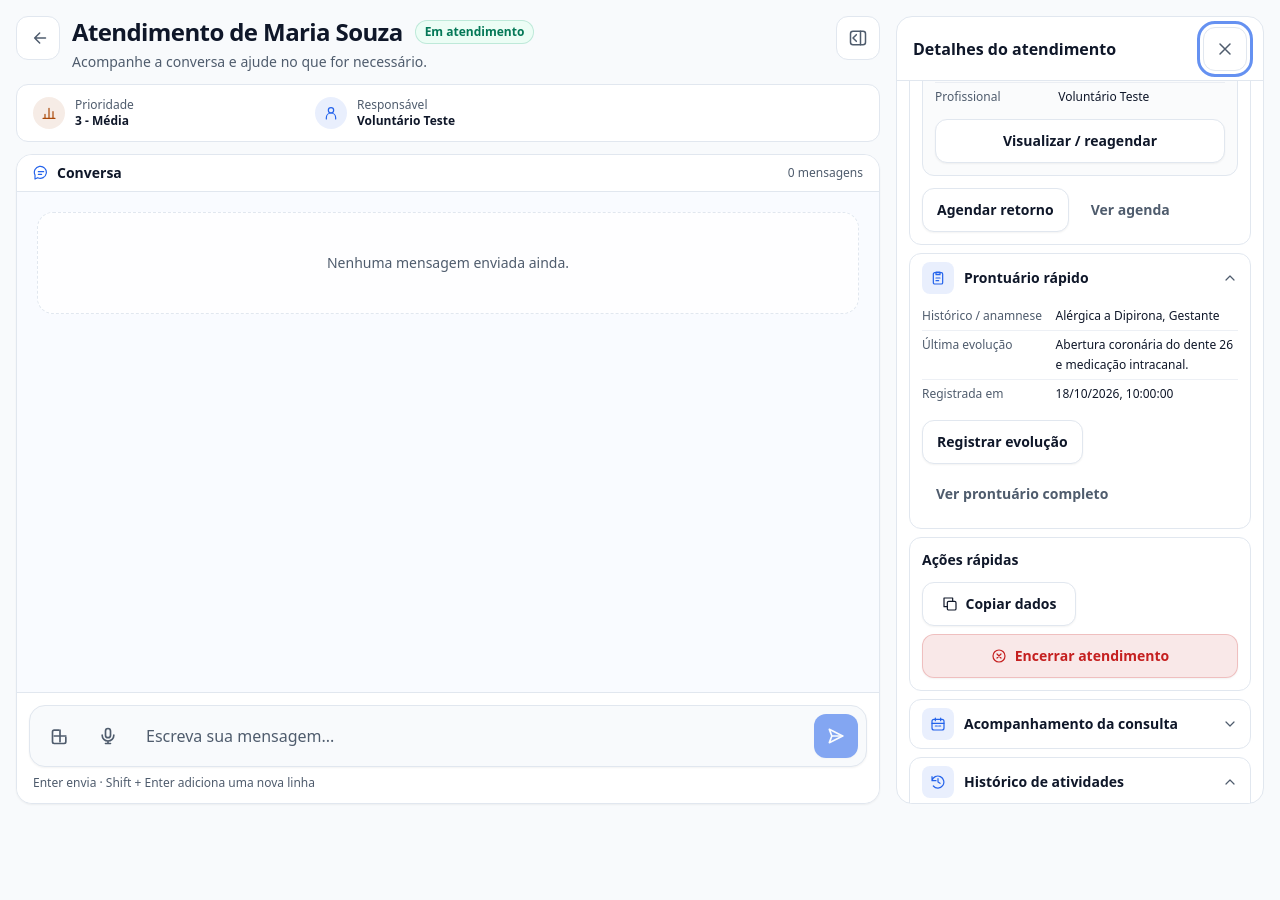
Test: DetalheAtendimento - Deduplicação de Mensagens › exibe situação atual do prontuário do paciente no atendimento e registra nova evolução
(page scrolled)
Expected: the heading "Prontuário rápido" is shown, [964, 268, 1089, 287]
Expected: the text "Alérgica a Dipirona, Gestante" is shown, [1056, 306, 1238, 326]
Click the button "Registrar evolução" at [1002, 442], box [922, 420, 1083, 464]
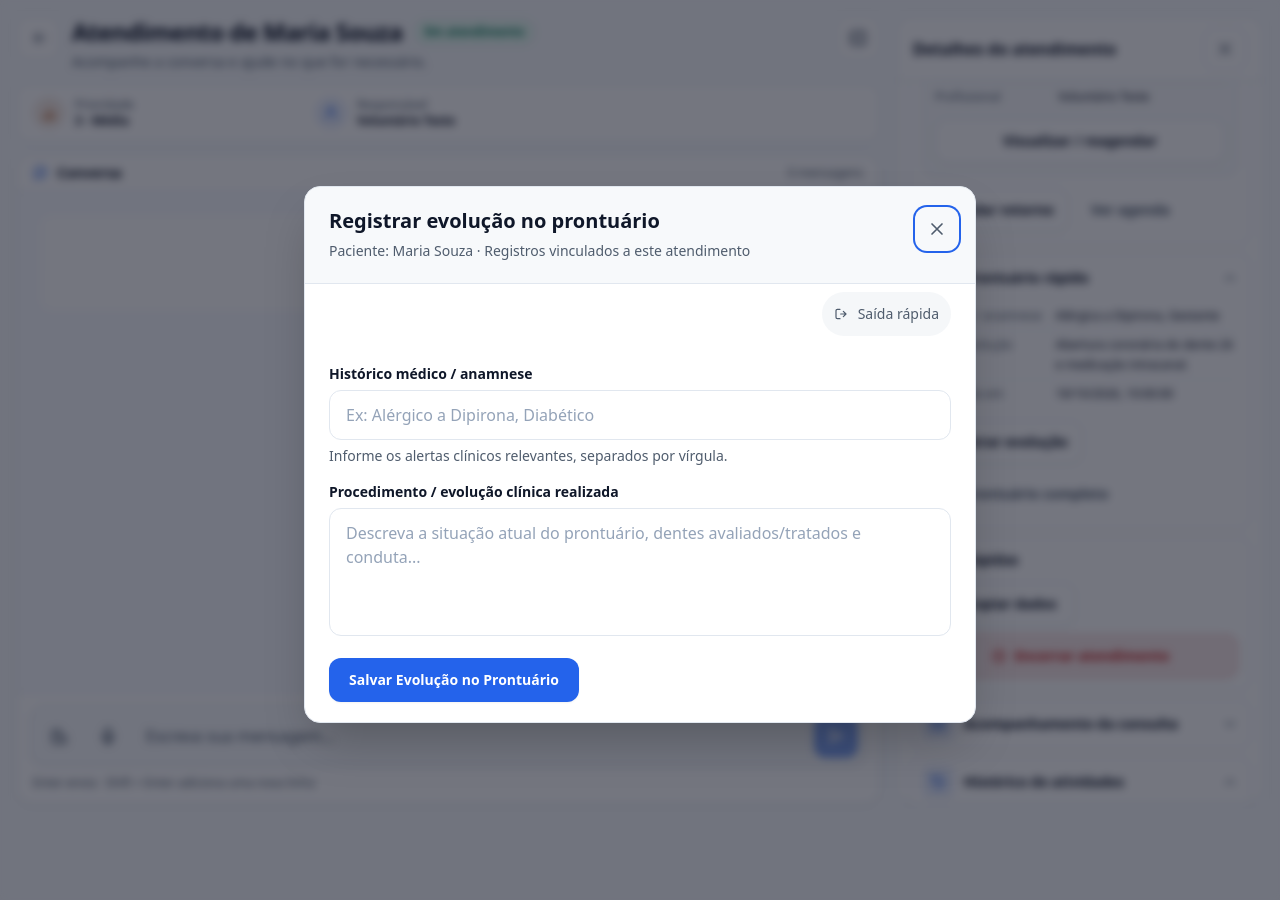
Click the button "Salvar Evolução no Prontuário" at [454, 680], box [329, 658, 579, 702]
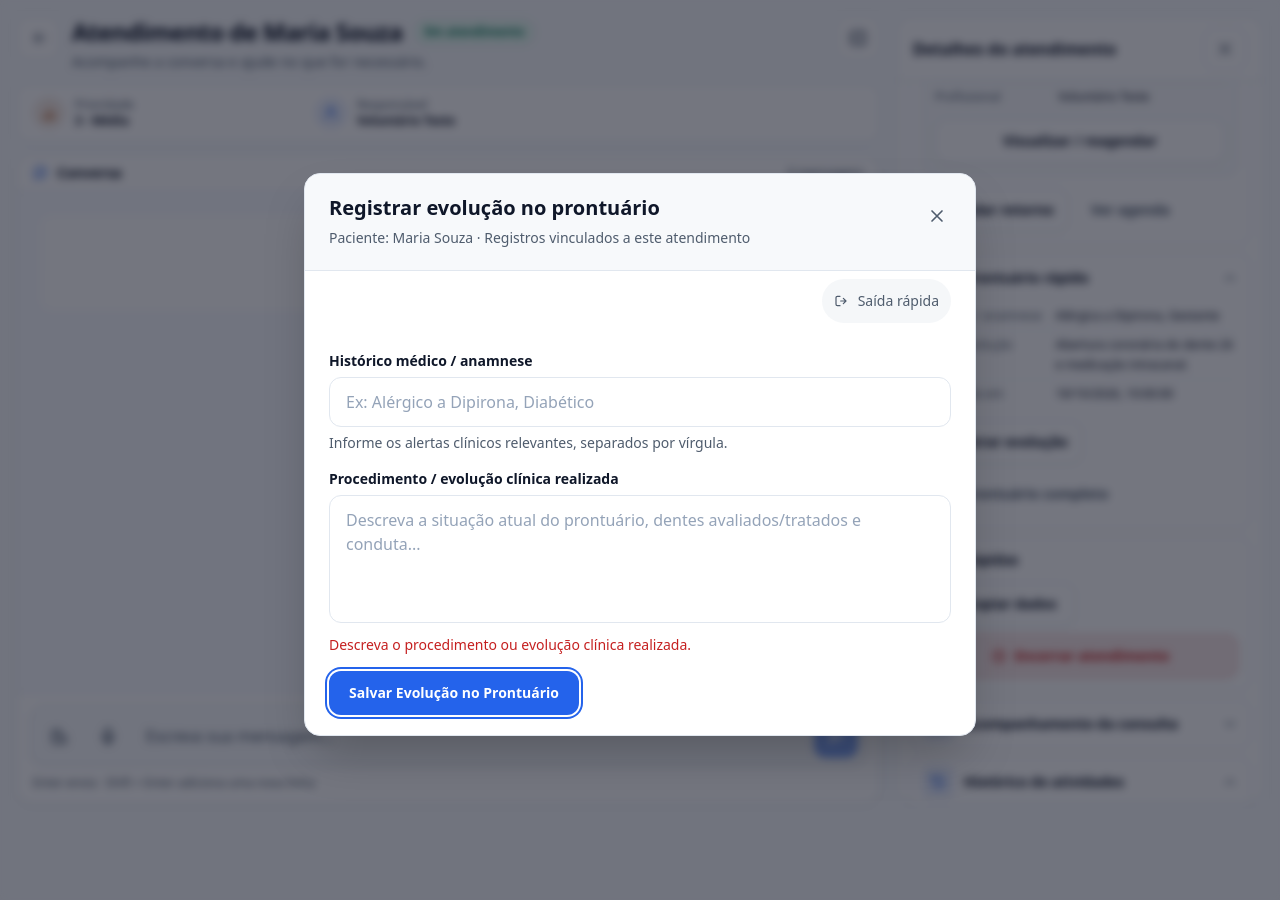
Result: the text "Descreva o procedimento ou evolução clínica realizada." is shown at [329, 634, 691, 654]
Type "Obturação endodôntica do dente 26 e restauração provisória." into the text box with placeholder "Descreva a situação atual do prontuário, dentes avaliados/tratados e conduta..." at [640, 558], box [329, 494, 951, 622]
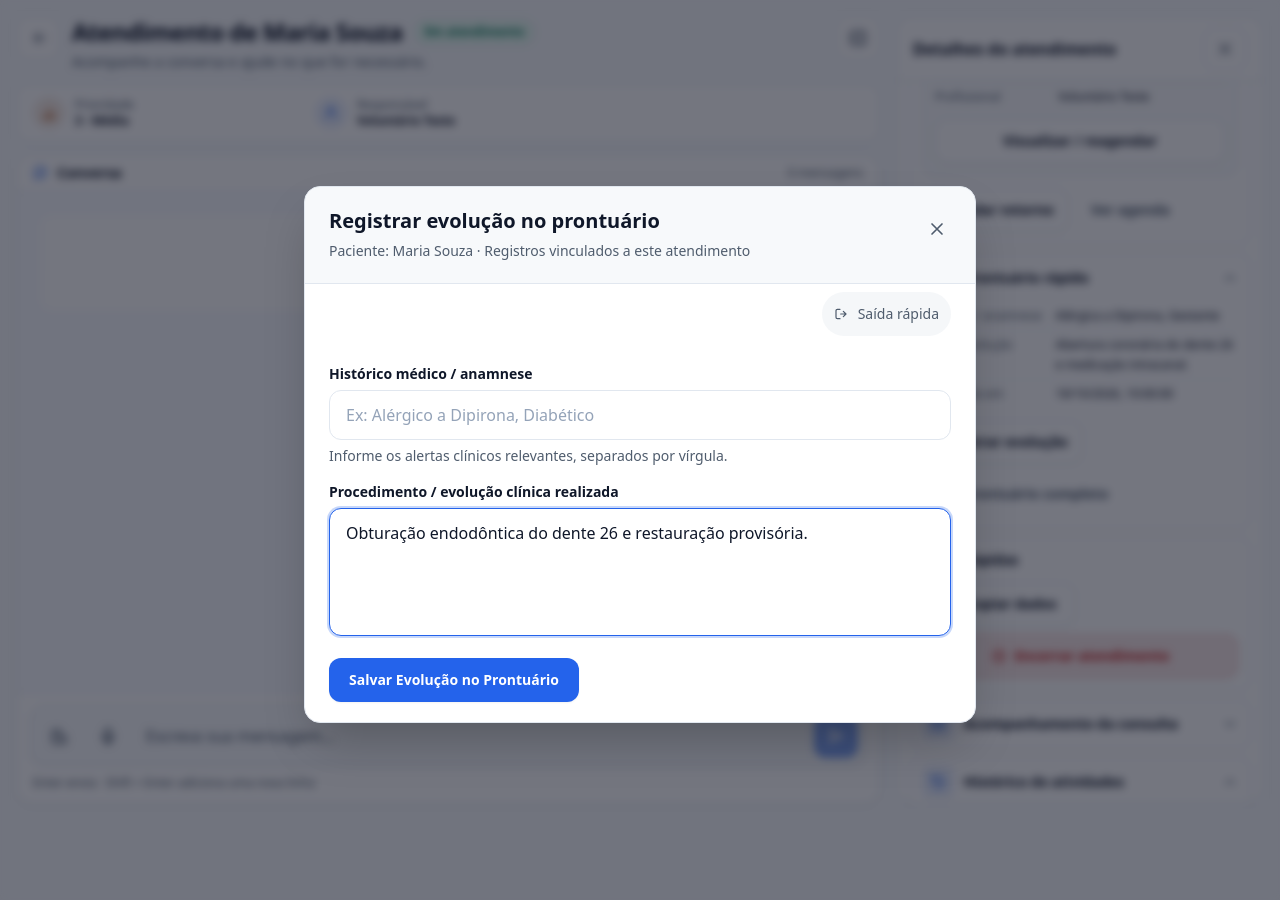
Click the button "Salvar Evolução no Prontuário" at [454, 680], box [329, 658, 579, 702]
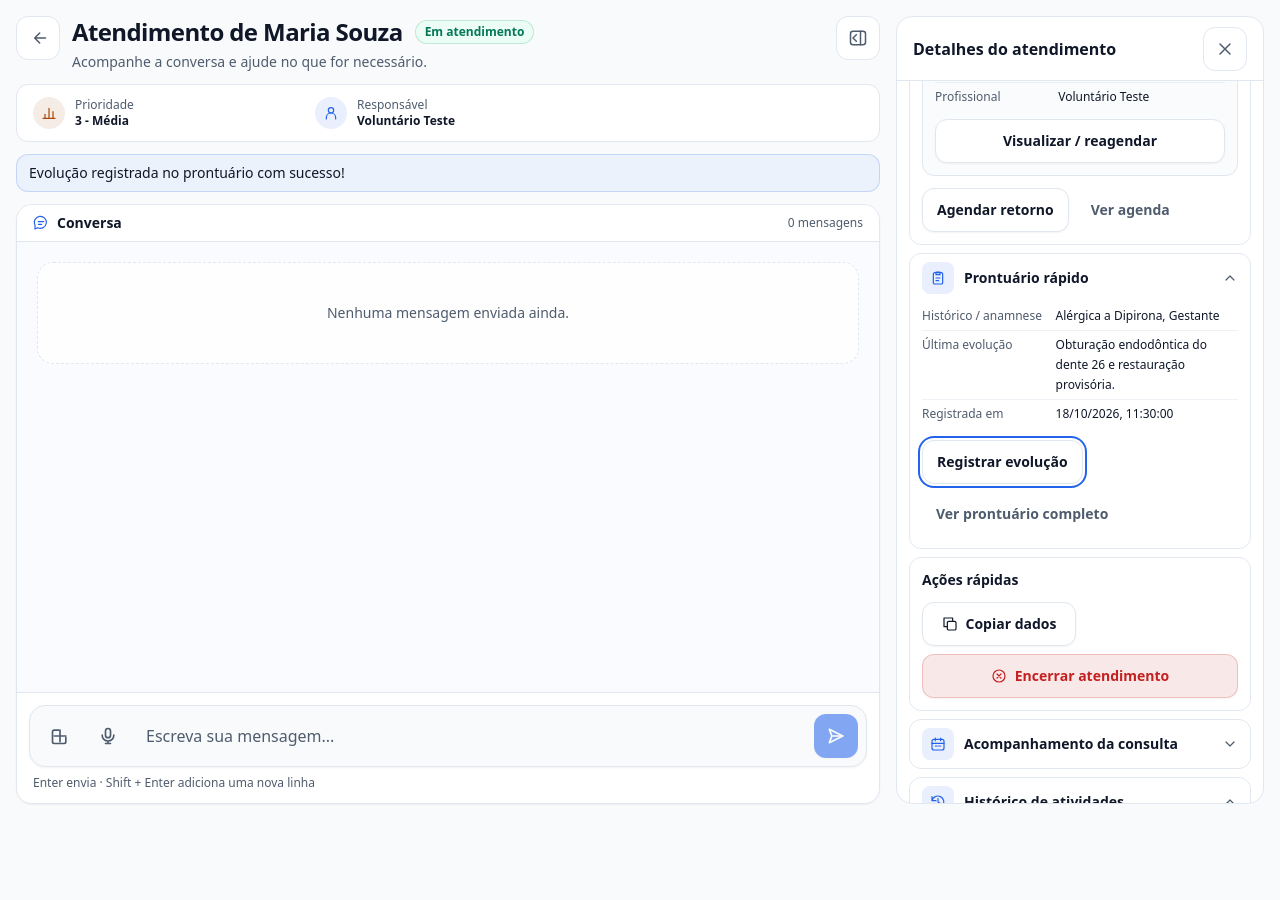
Result: the text "Obturação endodôntica do dente 26 e restauração provisória." is shown at [1056, 336, 1207, 393]
